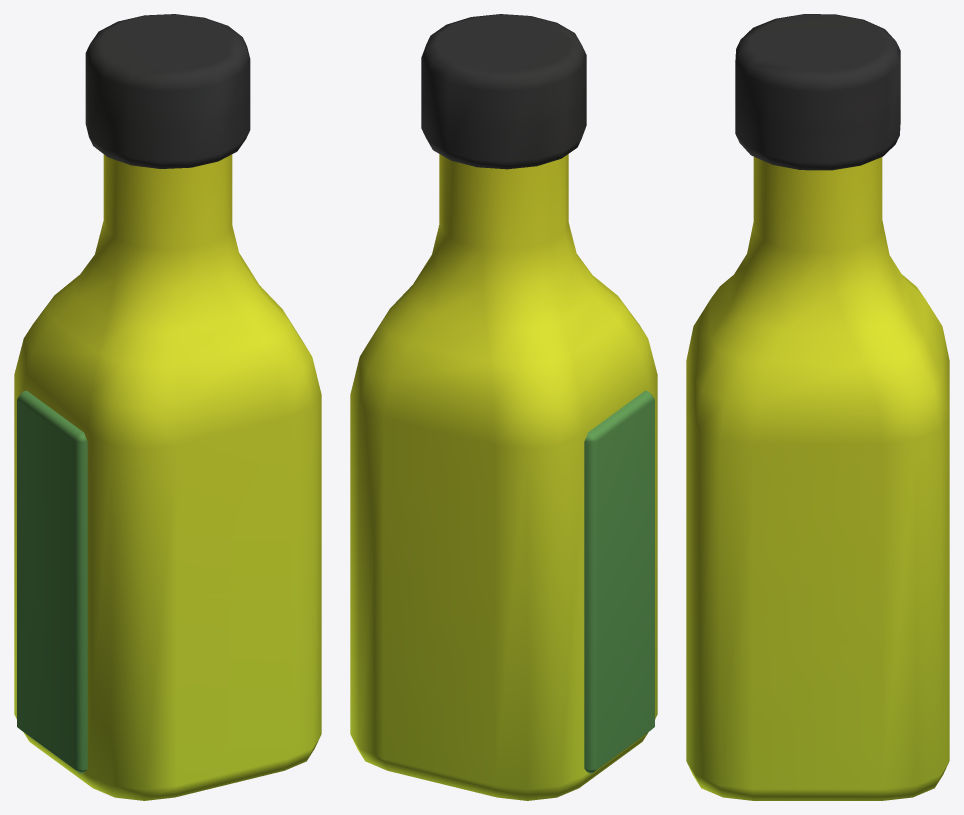
File: OliveOil.fbx
3 views of the same model, side by side, from view 1: azimuth 30°, elevation 25°; view 2: azimuth 150°, elevation 25°; view 3: azimuth 270°, elevation 25° (orthographic).
Parts seen in each view (by area): view 1: Cube.011; view 2: Cube.011; view 3: Cube.011.
Part boxes in pixels (bbox=[...]): Cube.011: bbox=[14, 14, 321, 800]; Cube.011: bbox=[350, 14, 657, 800]; Cube.011: bbox=[686, 14, 949, 800].
Size of the model in its own units: 2.09 by 5.96 by 2.
